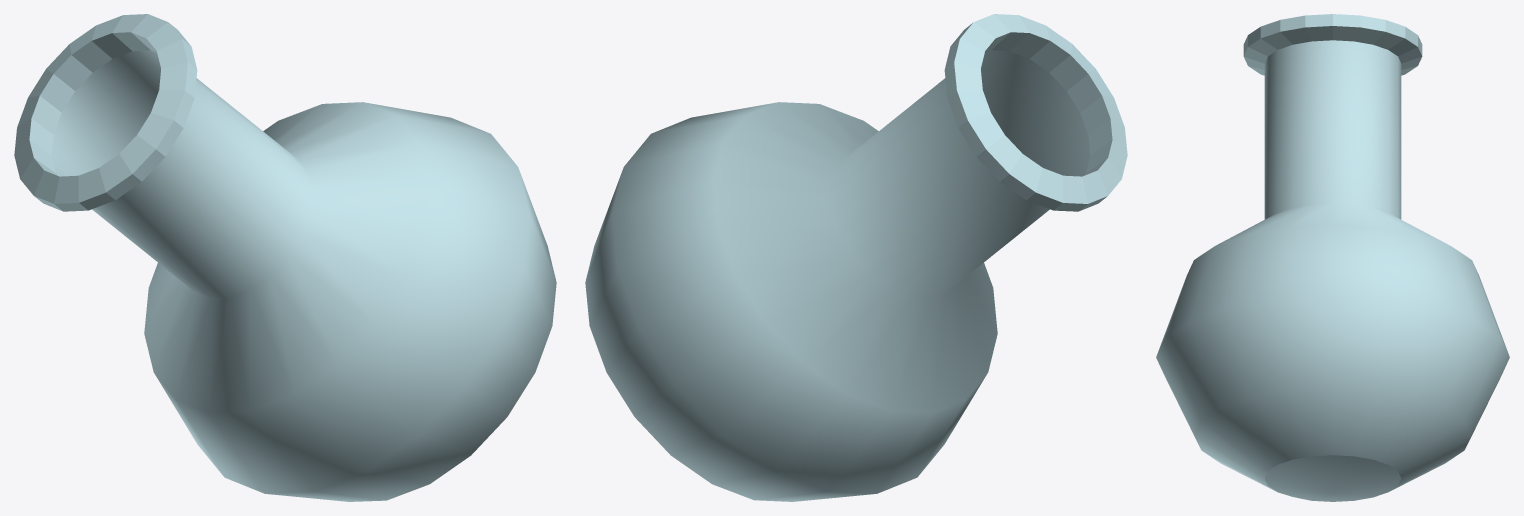
The model's file is GrowPotion.fbx.
3 renders of one model, left to right at view 1: azimuth 30°, elevation 25°; view 2: azimuth 150°, elevation 25°; view 3: azimuth 270°, elevation 25°, orthographic. The views are drawn at different scales.
Visible parts, largest first — view 1: shrinkPotion; view 2: shrinkPotion; view 3: shrinkPotion.
Boxes of the visible parts, left/top/right/bottom form: shrinkPotion: left=14, top=14, right=556, bottom=501; shrinkPotion: left=585, top=14, right=1127, bottom=501; shrinkPotion: left=1156, top=14, right=1509, bottom=501.
Size of the model in its own units: 15.89 by 15.52 by 12.15.
